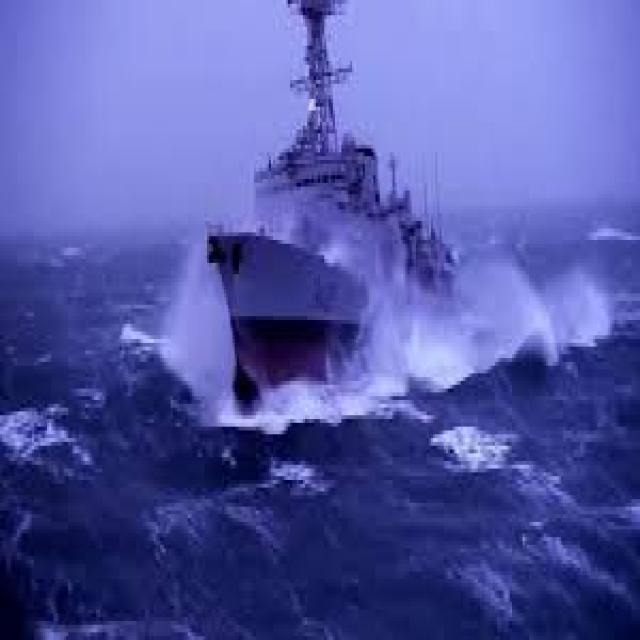navalvessels: (189, 3, 475, 402)
